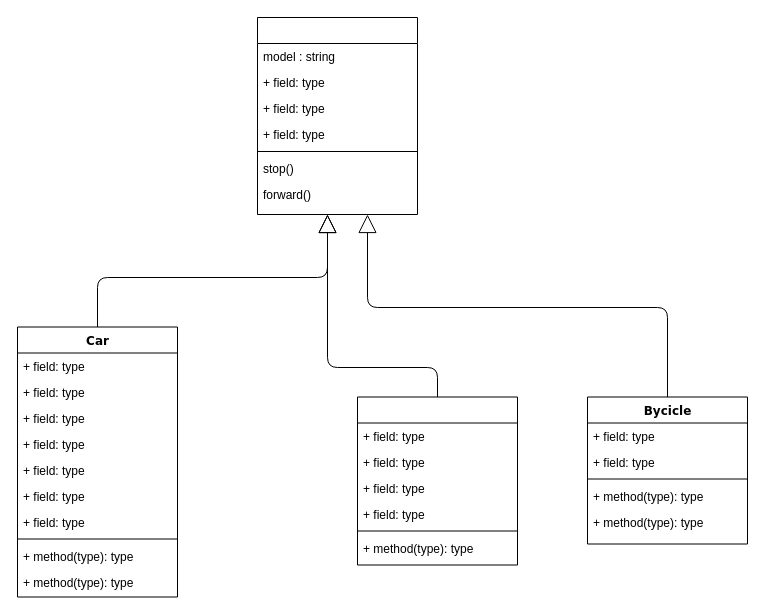
This 765x615 diagram has some shape labels left out. The box of each missing label's shape, as (x1, y1, x2, y2) in pixels:
Bike: (356, 396, 518, 565)
Vehicle: (256, 16, 418, 214)
